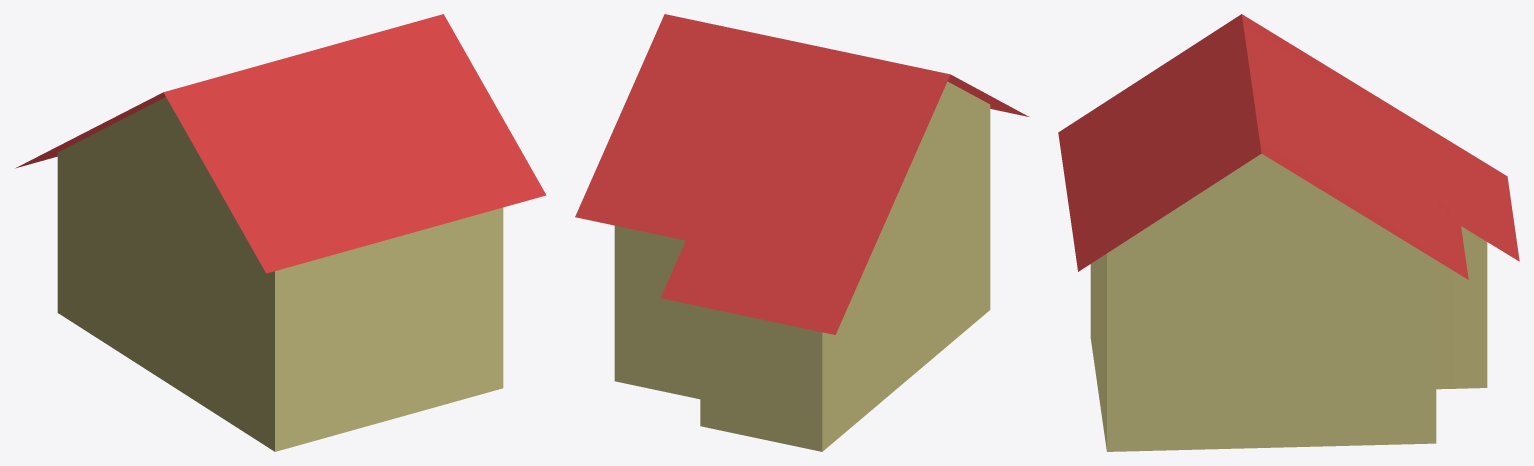
3 views of the same model, side by side, from view 1: azimuth 30°, elevation 25°; view 2: azimuth 150°, elevation 25°; view 3: azimuth 270°, elevation 25° (orthographic). The views are drawn at different scales.
Size of the model in its own units: 11.65 by 15.04 by 11.06.
